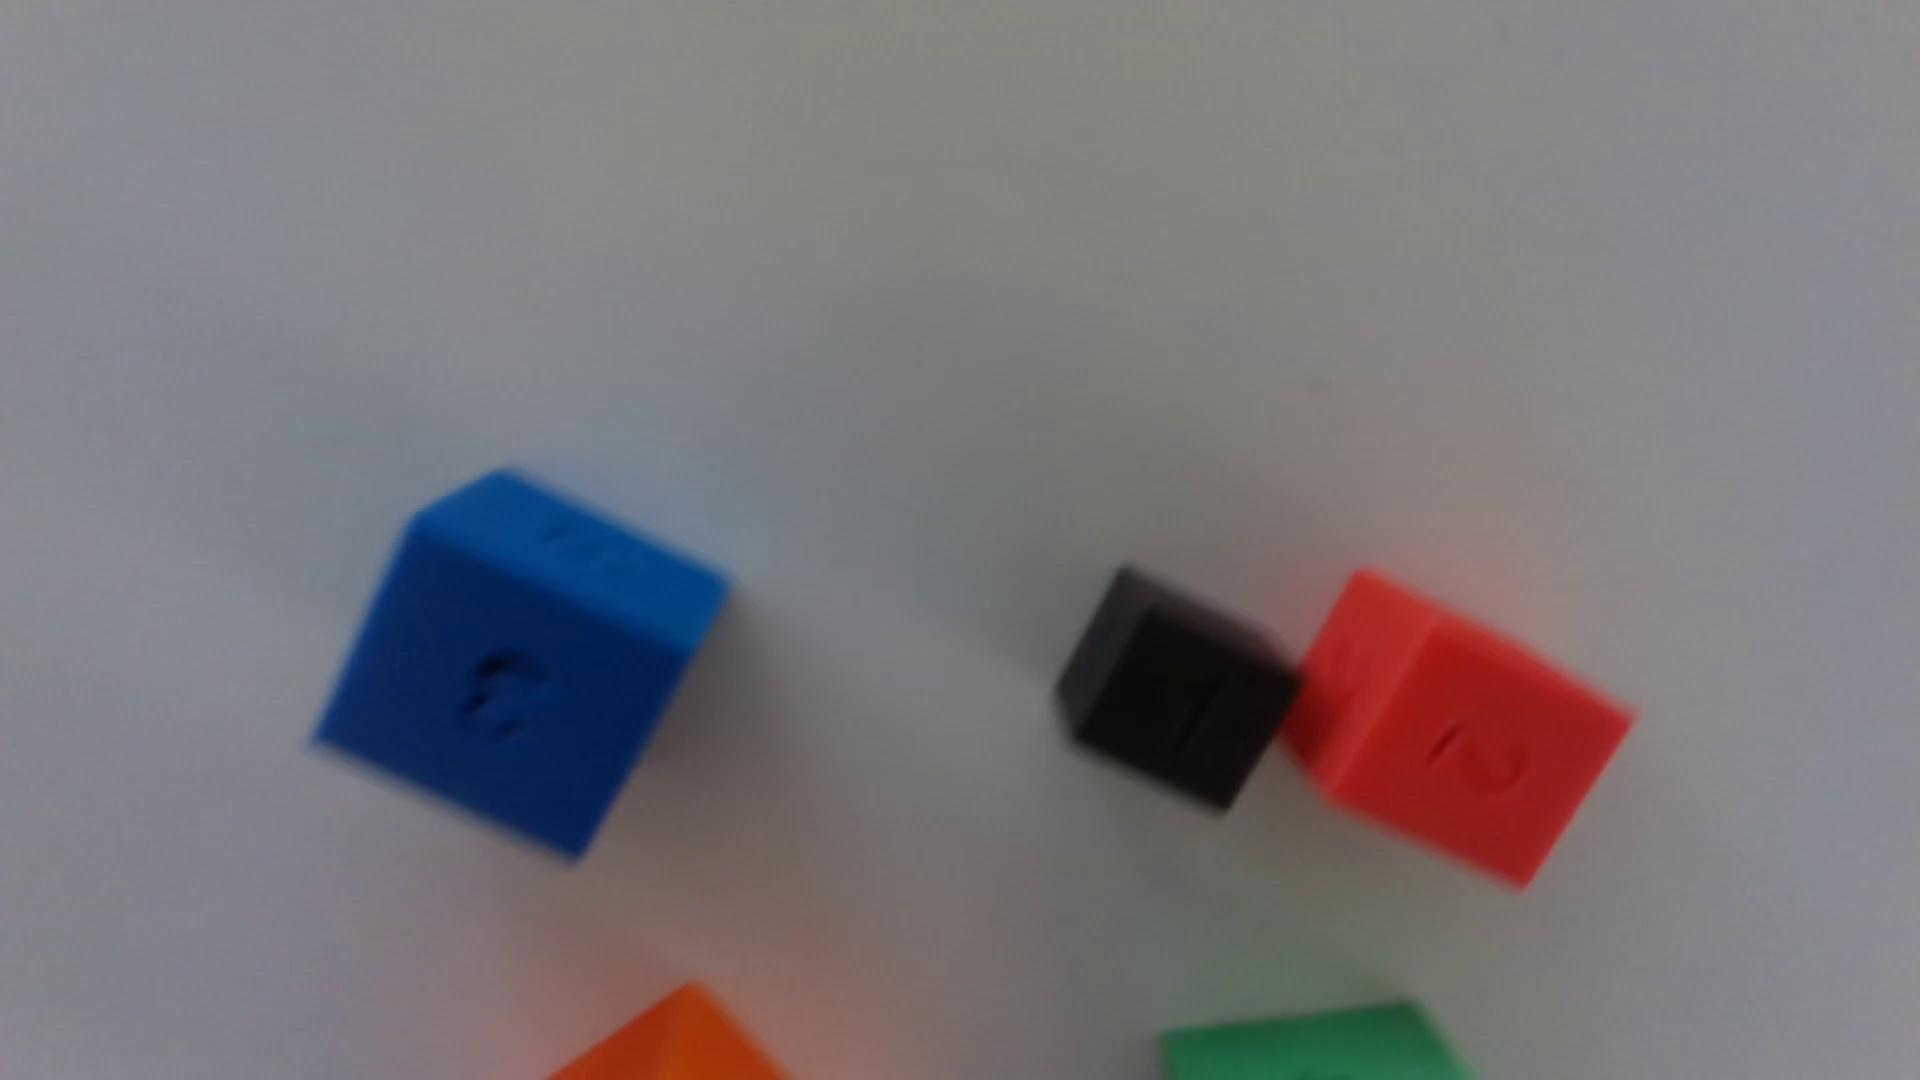black: (1055, 568, 1300, 814)
blue: (315, 471, 729, 860)
green: (1158, 1004, 1466, 1080)
orange: (549, 985, 786, 1080)
red: (1280, 571, 1630, 889)
